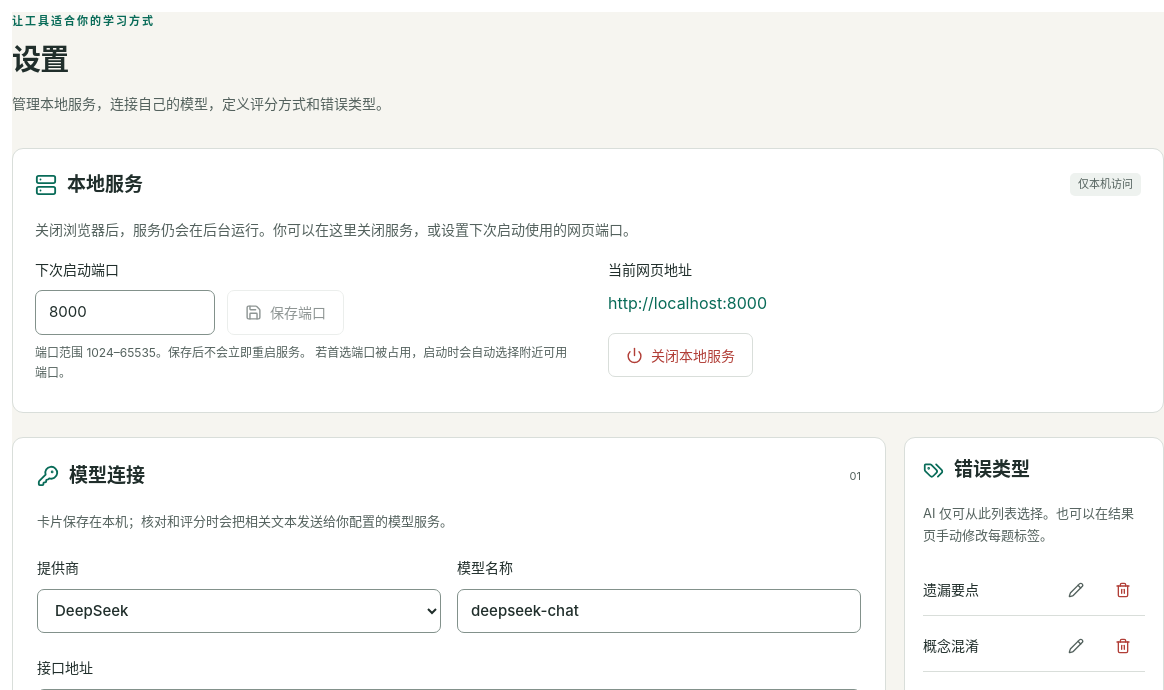
设置与卡片编辑 › 关闭本地服务须确认，成功后保留重新启动提示
What coordinates should you click on to do the following:
click the button "关闭本地服务"
I would click on:
 (680, 355)
Its box is [608,333,753,377].
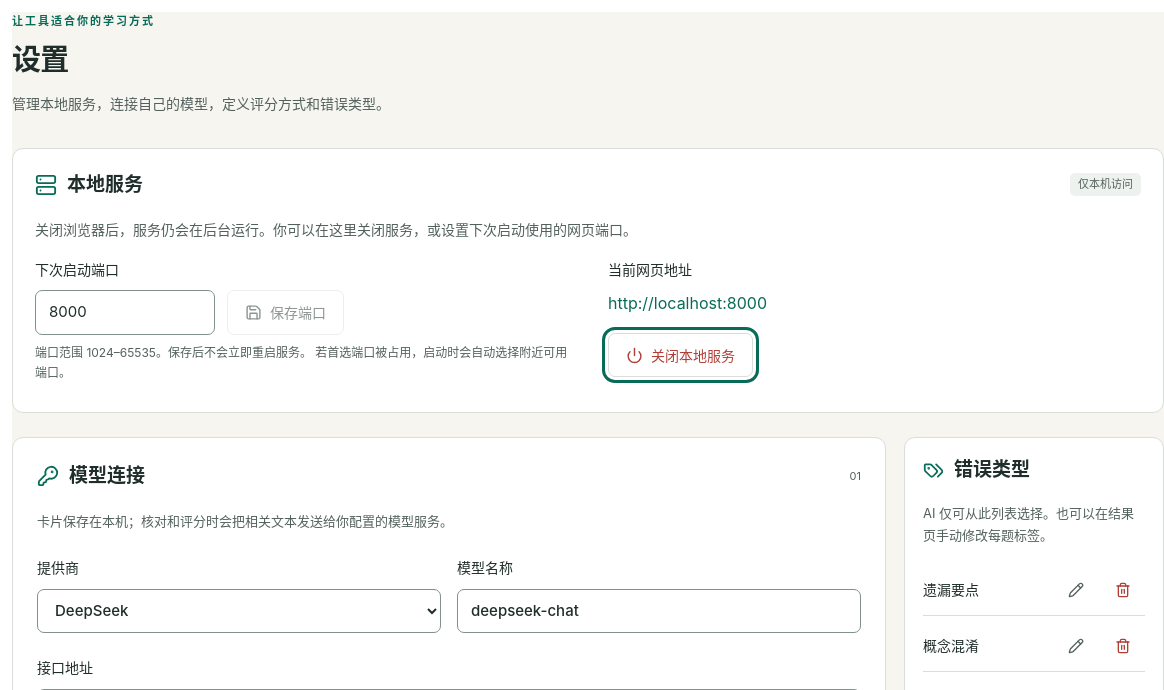
What coordinates should you click on to do the following:
click the button "关闭本地服务"
I would click on:
 (680, 355)
Its box is [608,333,753,377].
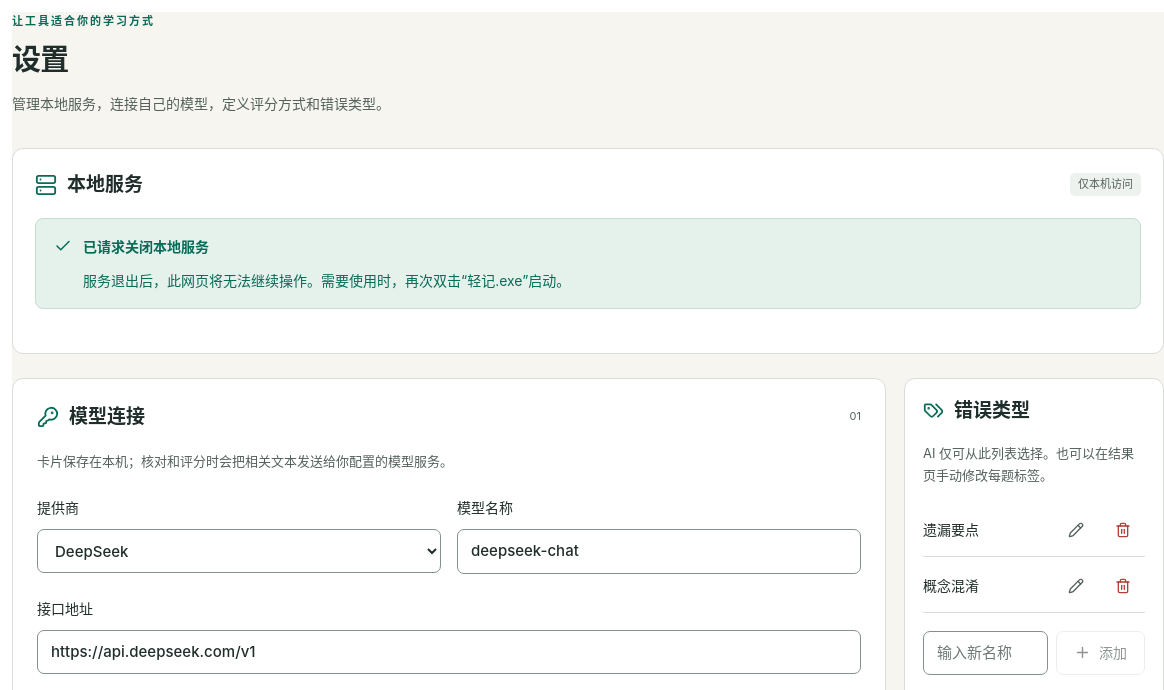
Expected: the text "已请求关闭本地服务" is shown, [83,238,209,256]
Expected: the text "服务退出后，此网页将无法继续操作。需要使用时，再次双击“轻记.exe”启动。" is shown, [83,272,570,289]
